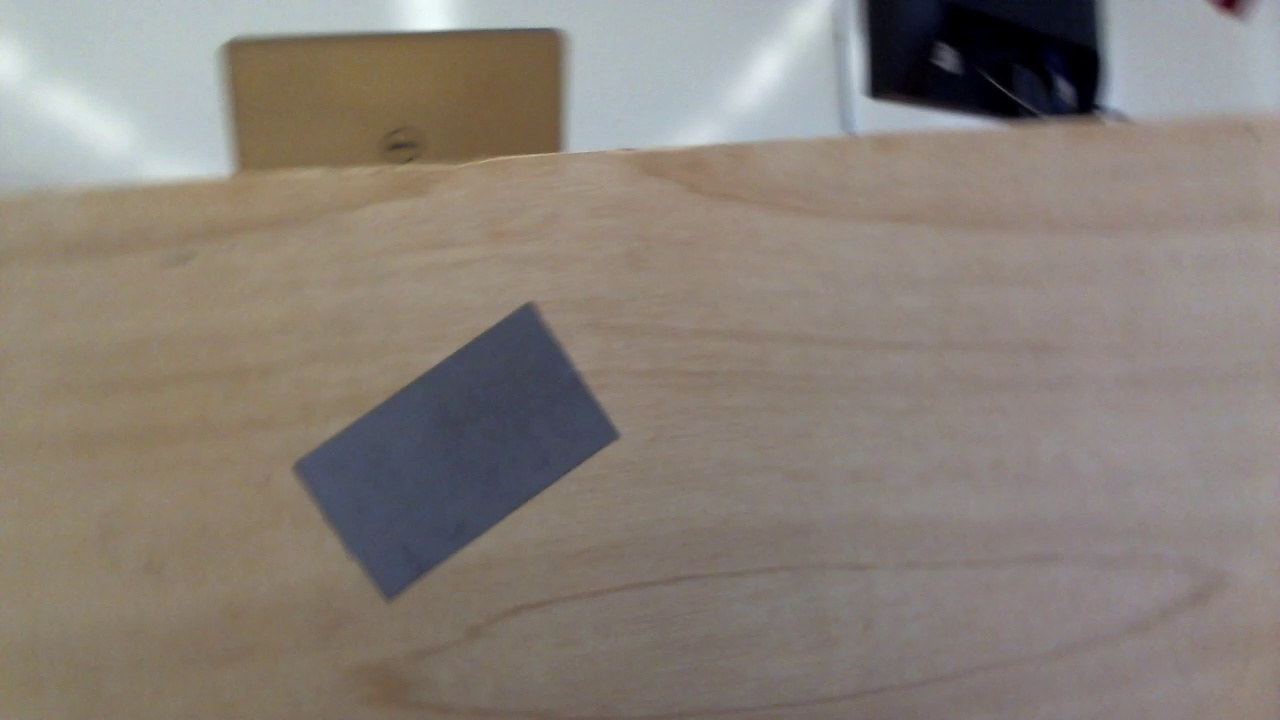Tape: (291, 304, 619, 605)
